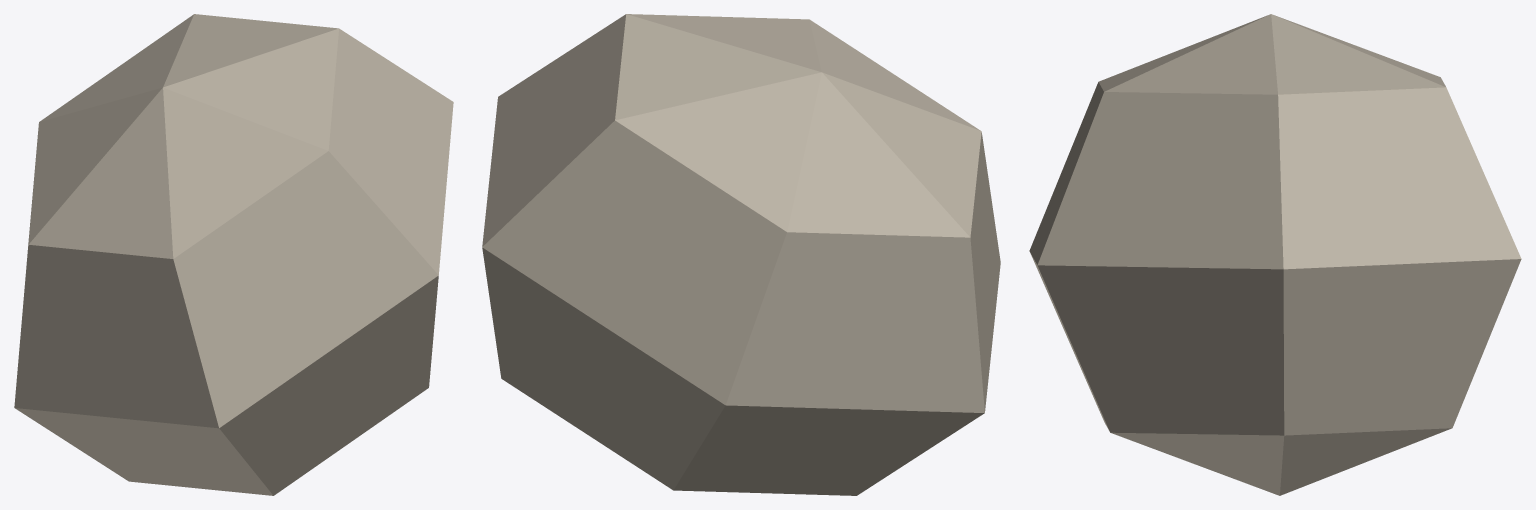
File: fx_rock.fbx
3 views of the same model, side by side, from view 1: azimuth 30°, elevation 25°; view 2: azimuth 150°, elevation 25°; view 3: azimuth 270°, elevation 25° (orthographic). The views are drawn at different scales.
Parts seen in each view (by area): view 1: Prop; view 2: Prop; view 3: Prop.
Part boxes in pixels (x1=…): Prop: x1=14, y1=14, x2=453, y2=495; Prop: x1=482, y1=14, x2=1000, y2=495; Prop: x1=1029, y1=14, x2=1521, y2=495.
Bounding box in the file's own units: 0.1772 × 0.156 × 0.1515.
